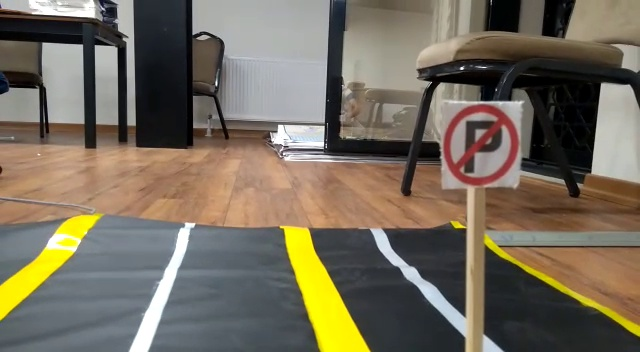park_yapilmaz: (439, 101, 523, 186)
